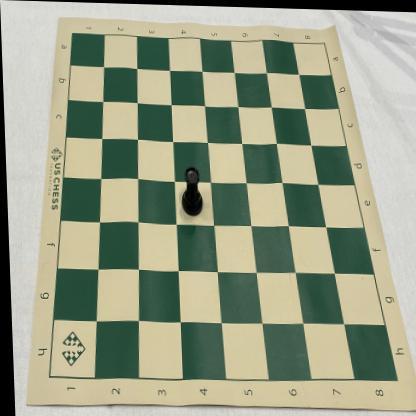black-rook: (178, 164, 202, 217)
